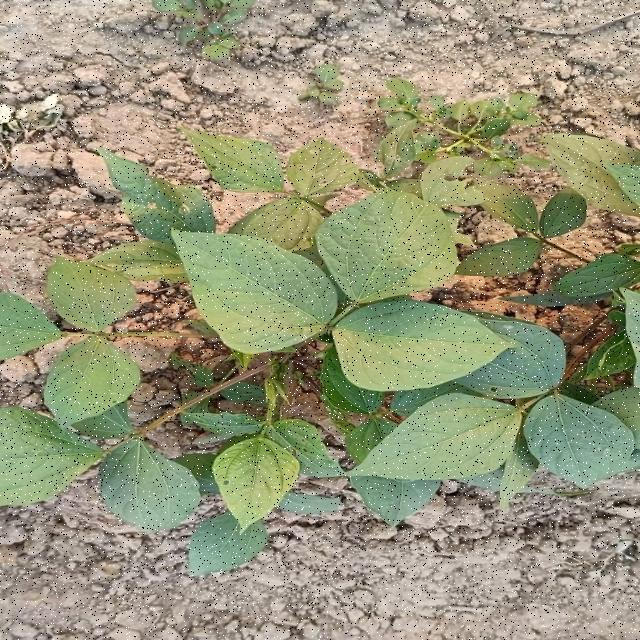plant: (0, 79, 640, 577)
